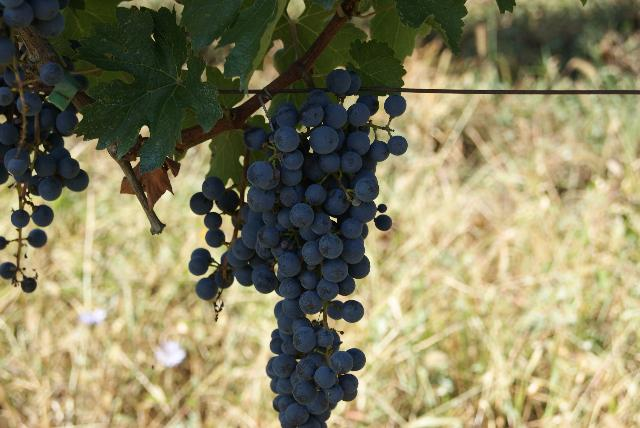grapes: (214, 89, 408, 428)
